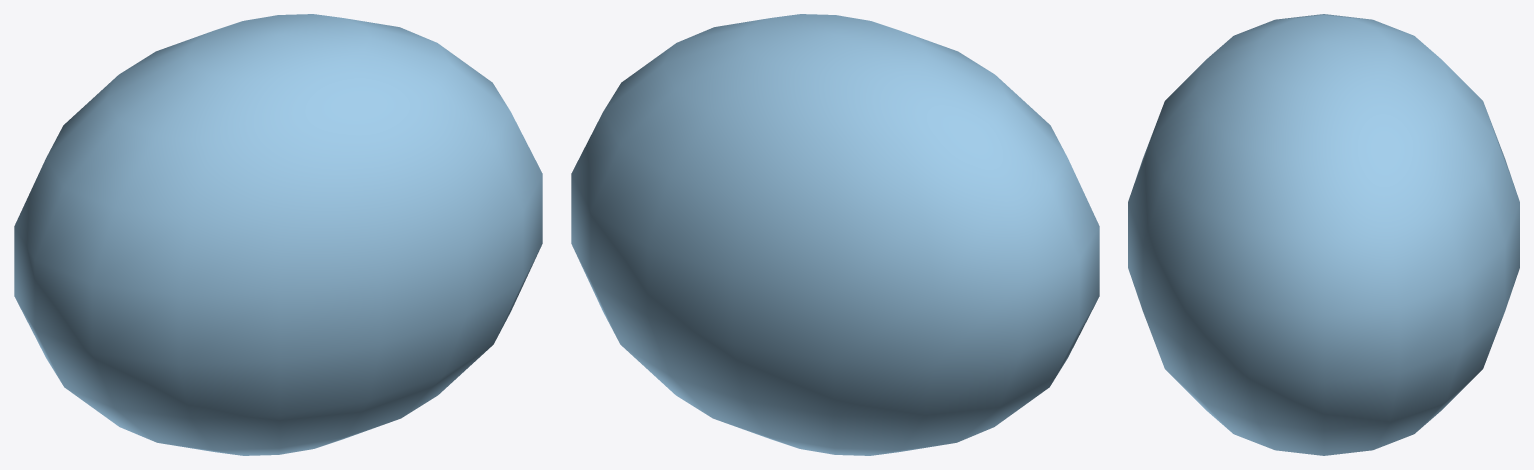
File: bunny_nose.glb
The picture shows the model from 3 angles, left to right: view 1: azimuth 30°, elevation 25°; view 2: azimuth 150°, elevation 25°; view 3: azimuth 270°, elevation 25°; orthographic projection. The views are drawn at different scales.
Visible parts, largest first — view 1: bunny_nose_Head; view 2: bunny_nose_Head; view 3: bunny_nose_Head.
Boxes of the visible parts, x1=… form: bunny_nose_Head: x1=14, y1=14, x2=542, y2=455; bunny_nose_Head: x1=571, y1=14, x2=1099, y2=455; bunny_nose_Head: x1=1128, y1=14, x2=1519, y2=455.
Bounding box in the file's own units: 0.13 × 0.102 × 0.0945.
